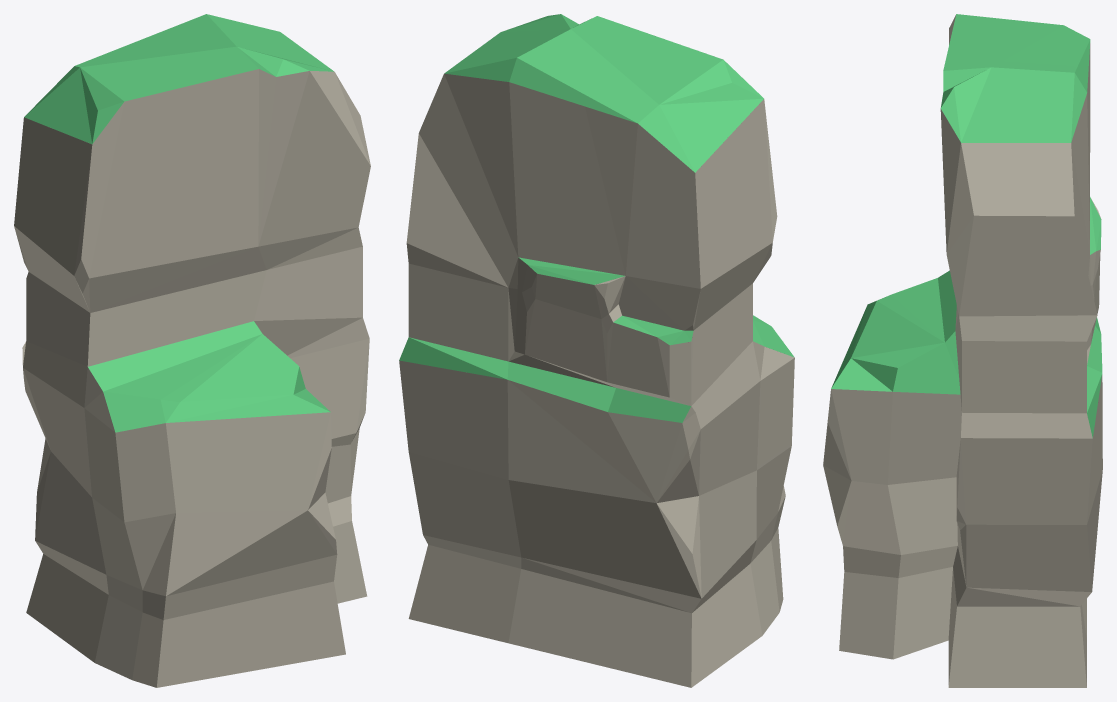
Rendered from grass-stone2.glb.
3 renders of one model, left to right at view 1: azimuth 30°, elevation 25°; view 2: azimuth 150°, elevation 25°; view 3: azimuth 270°, elevation 25°, orthographic. The views are drawn at different scales.
Visible parts, largest first — view 1: terain1.064; view 2: terain1.064; view 3: terain1.064.
Boxes of the visible parts, box(x1,y1,x2,y2) form: terain1.064: box(14, 14, 370, 687); terain1.064: box(399, 14, 794, 687); terain1.064: box(823, 14, 1102, 687).
Bounding box in the file's own units: 2.17 × 3.93 × 1.76.
